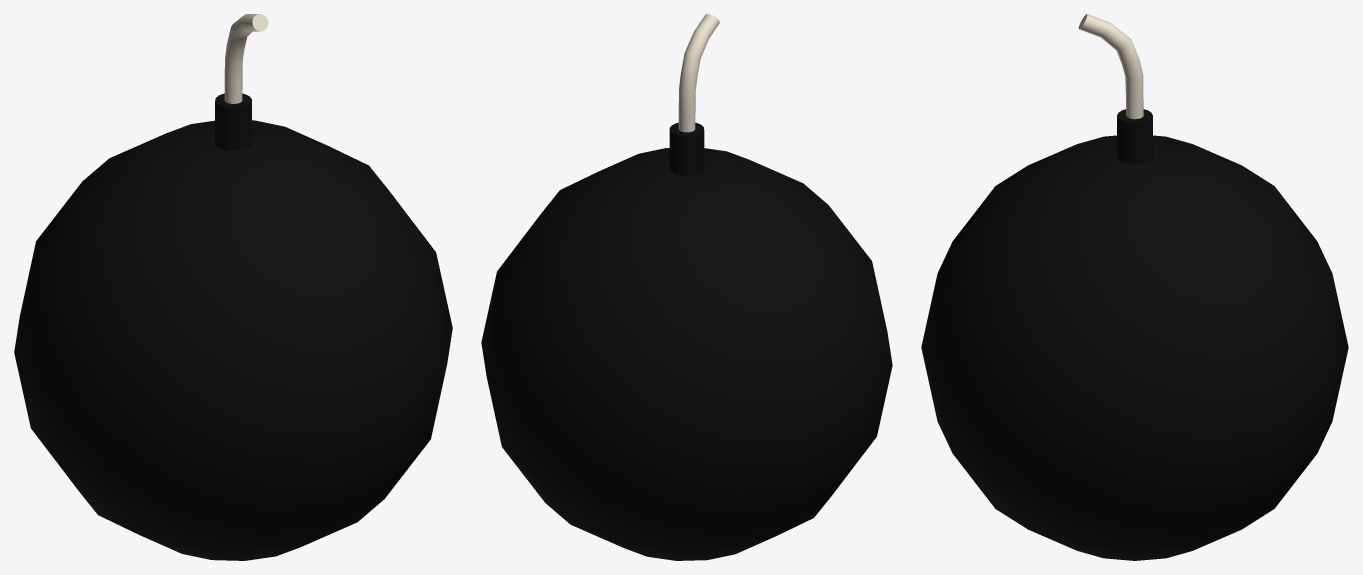
File: Ball.fbx
The picture shows the model from 3 angles, left to right: view 1: azimuth 30°, elevation 25°; view 2: azimuth 150°, elevation 25°; view 3: azimuth 270°, elevation 25°; orthographic projection. The views are drawn at different scales.
Parts seen in each view (by area): view 1: Sphere, Sphere.001; view 2: Sphere, Sphere.001; view 3: Sphere, Sphere.001.
Boxes of the visible parts, x1,y1,x2,y2 form: Sphere: (14, 120, 452, 560); Sphere.001: (215, 14, 268, 150); Sphere: (481, 148, 892, 560); Sphere.001: (669, 14, 719, 176); Sphere: (921, 135, 1348, 560); Sphere.001: (1078, 14, 1152, 164).
Size of the model in its own units: 200 by 272 by 200.
